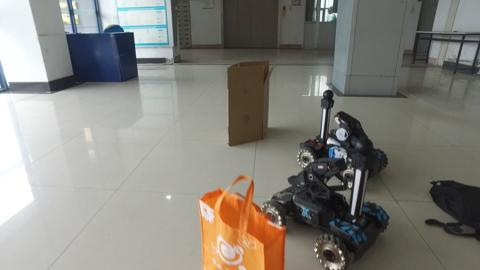bag: (196, 176, 287, 270)
box: (225, 58, 274, 148)
chariot: (266, 150, 387, 270), (301, 87, 390, 179)
